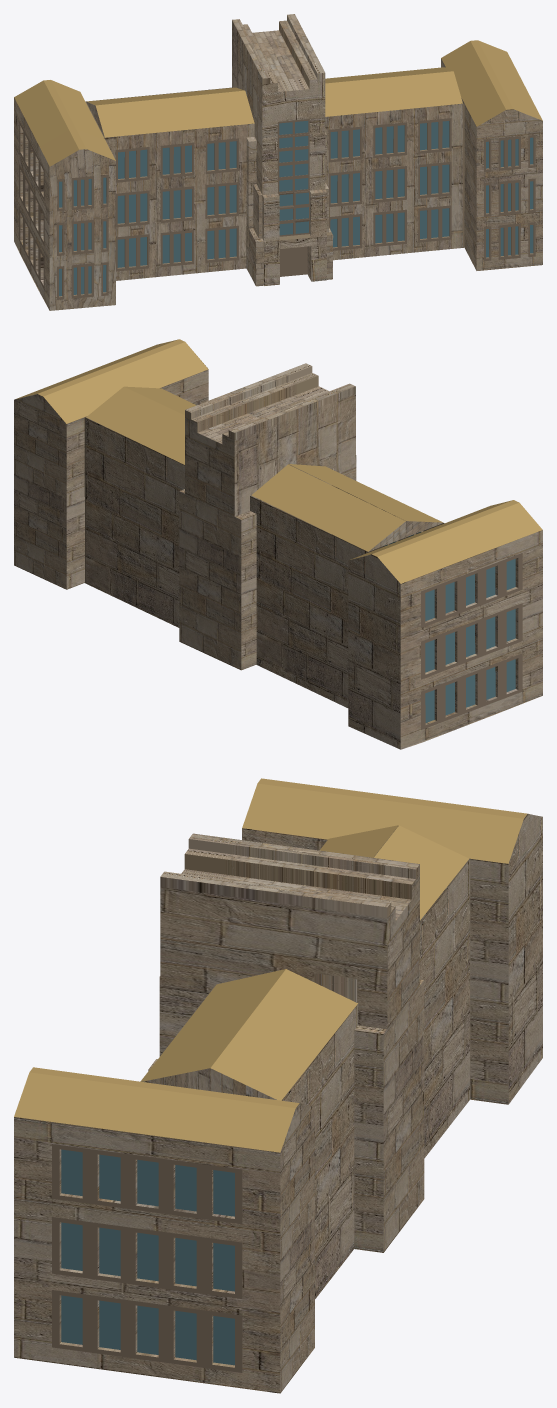
The picture shows the model from 3 angles, top to bottom: view 1: azimuth 30°, elevation 25°; view 2: azimuth 150°, elevation 25°; view 3: azimuth 270°, elevation 25°; orthographic projection. The views are drawn at different scales.
Visible parts, largest first — view 1: 평면.002; view 2: 평면.002; view 3: 평면.002.
Boxes of the visible parts, x1,y1,x2,y2 form: 평면.002: [14, 14, 542, 310]; 평면.002: [14, 339, 542, 749]; 평면.002: [14, 778, 542, 1393].
Size of the model in its own units: 16609 by 7096 by 9918.
4 materials, 1 textured.
